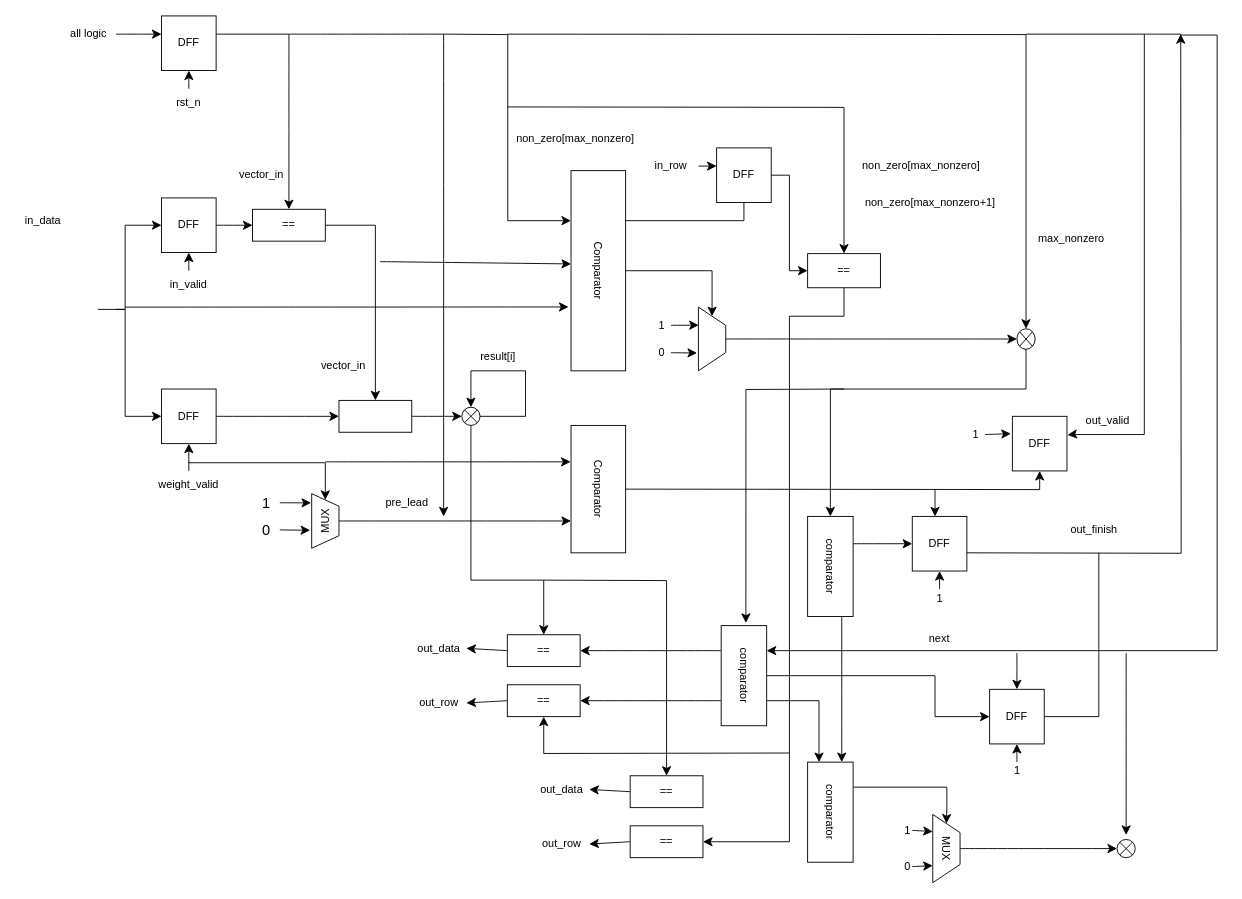
This 1242x899 diagram has some shape labels left out. The shapes that lost their labels are listed below. From the top down, each one's box as (x1, y1, x2, y2) in pixels, then its label:
(698, 306, 726, 371): MUS
(338, 399, 412, 432): MUL
